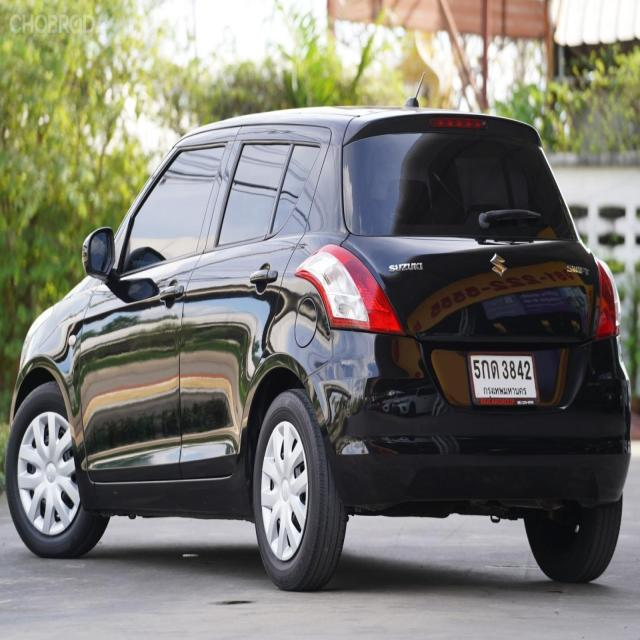license_plate: (468, 353, 544, 404)
